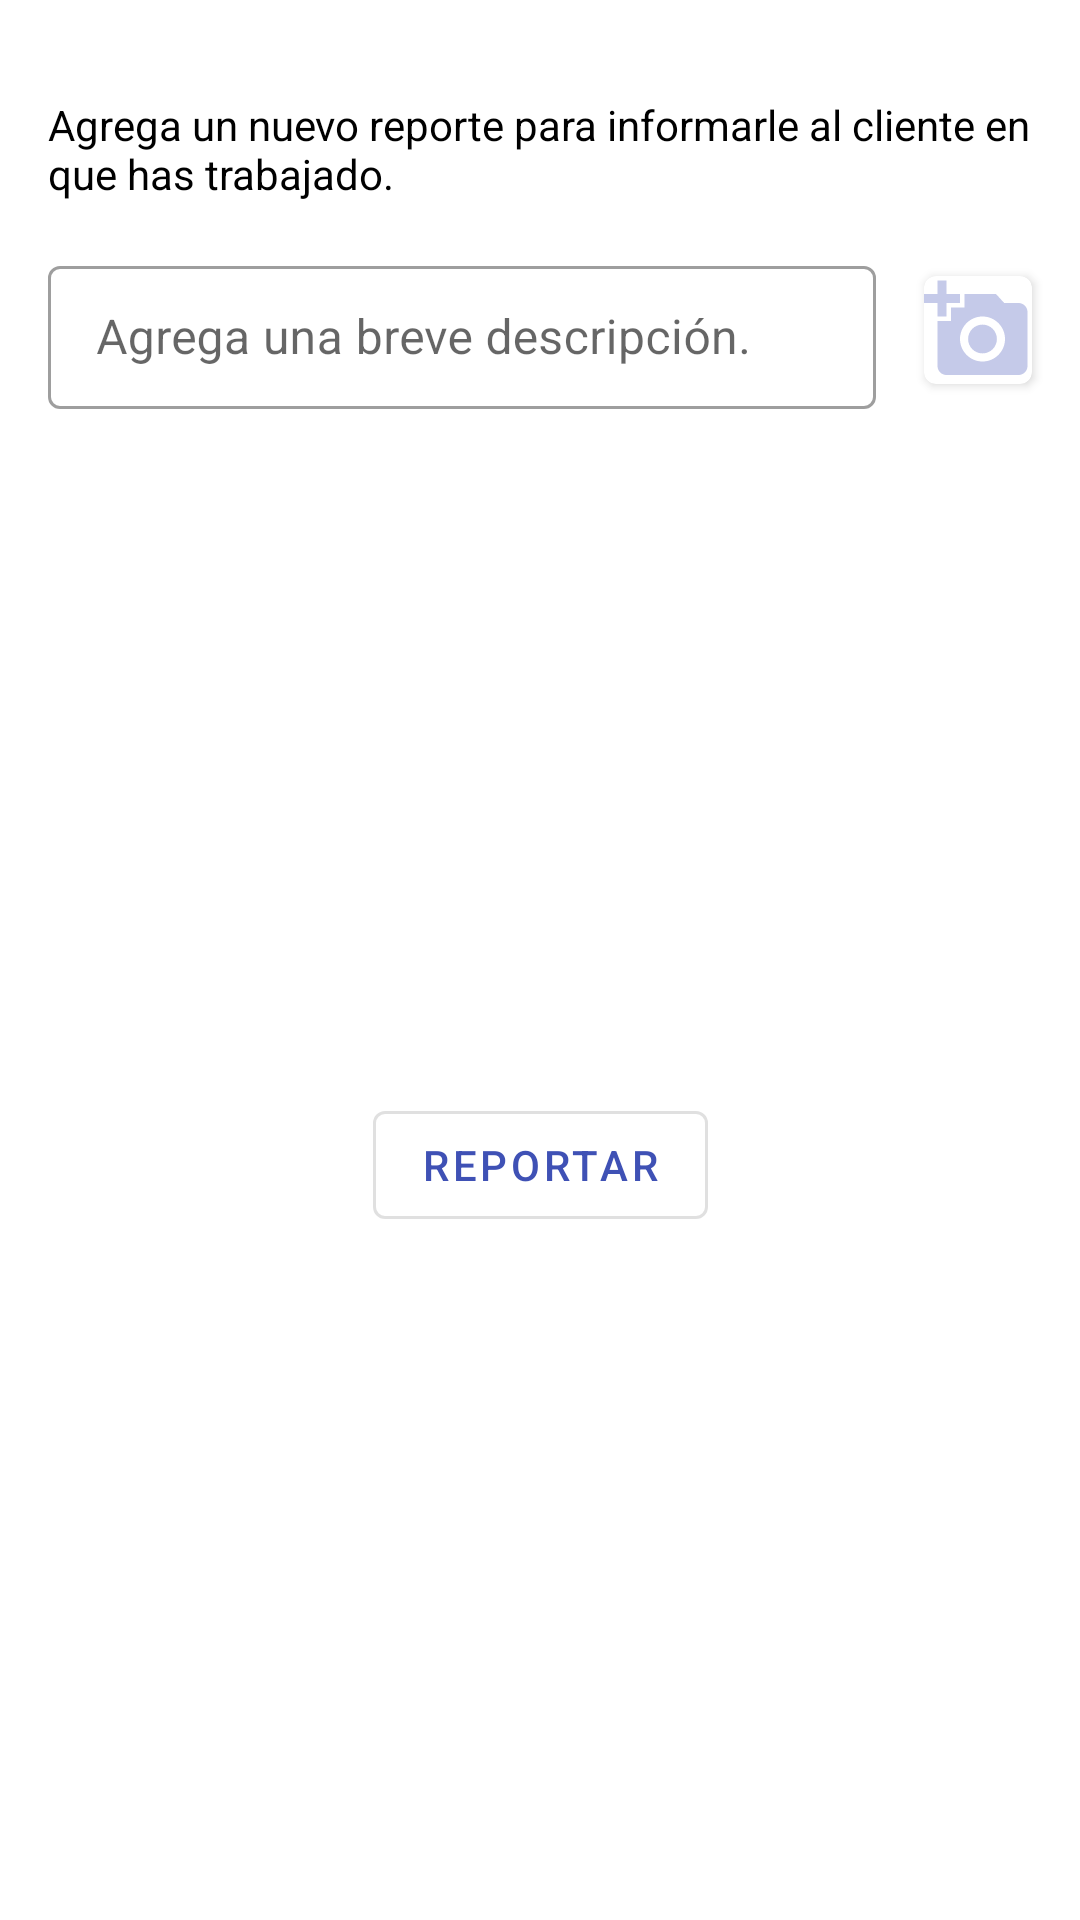

Icons on this 1080×1920 Android screen, each with the point to tap as point (x, y):
add photo: point (978, 331)
